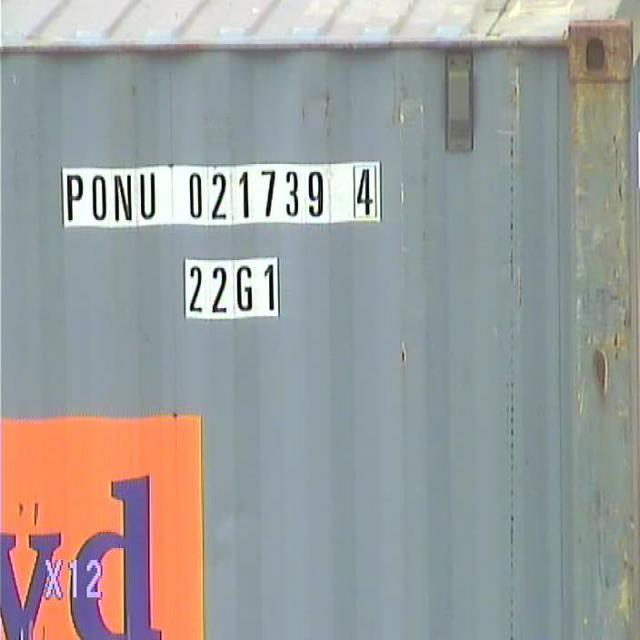container_number_h: (36, 138, 437, 360)
